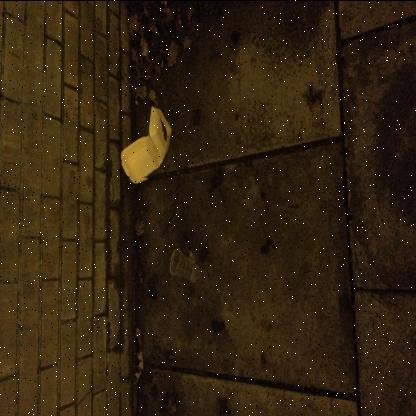foam: (120, 104, 173, 182)
plastic: (169, 247, 200, 282)
